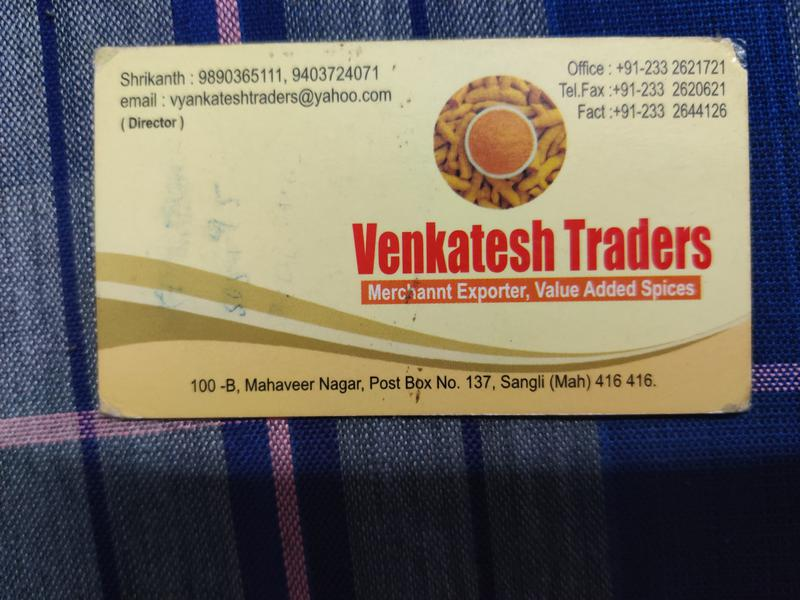card: (90, 39, 754, 418)
